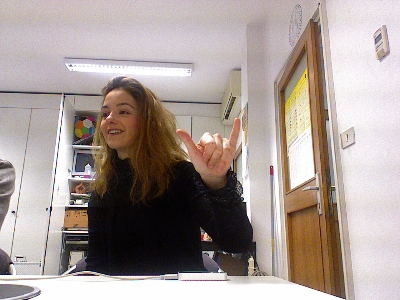六六六: (175, 116, 241, 178)
